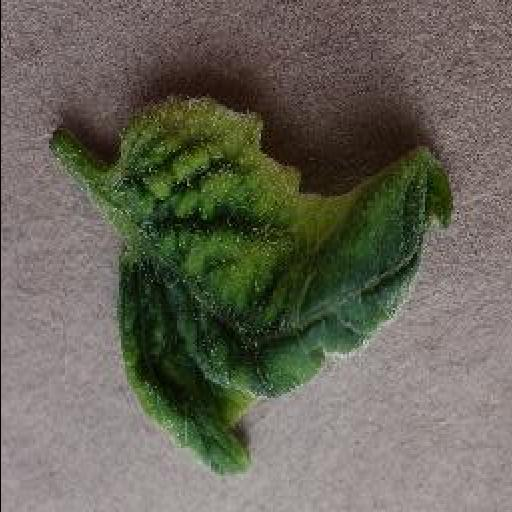disease_tomato: (110, 93, 454, 479)
